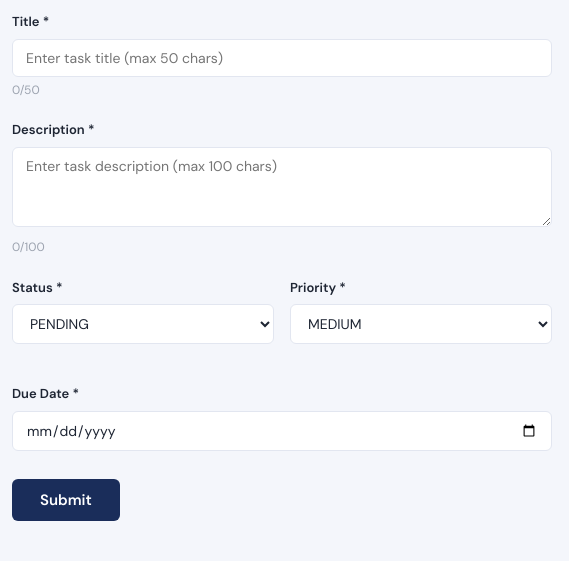
Test: TaskForm — form validation › shows error when due date is in the past
The width and height of the screenshot is (569, 561).
Type "Valid Title" into the field with placeholder "Enter task title (max 50 chars)".
click(282, 58); type("Valid Title")  # box 12,39 -> 552,77
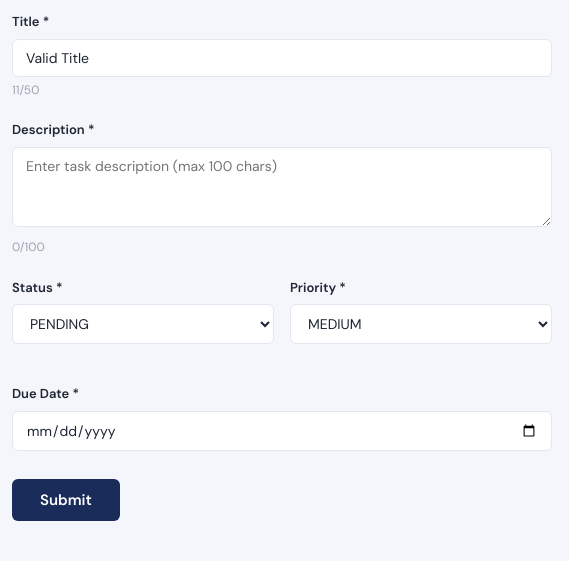
Type "Valid description" into the text box with placeholder "Enter task description (max 100 chars)".
click(282, 187); type("Valid description")  # box 12,147 -> 552,227
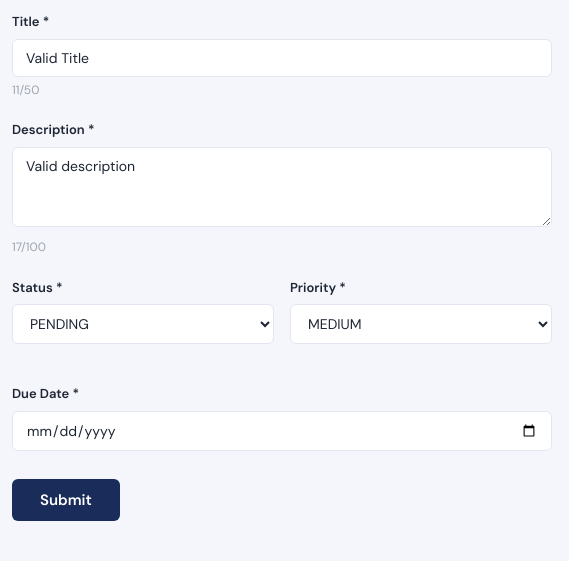
Type "2020-01-01" into the date field.
click(282, 431); type("2020-01-01")  # box 12,411 -> 552,451
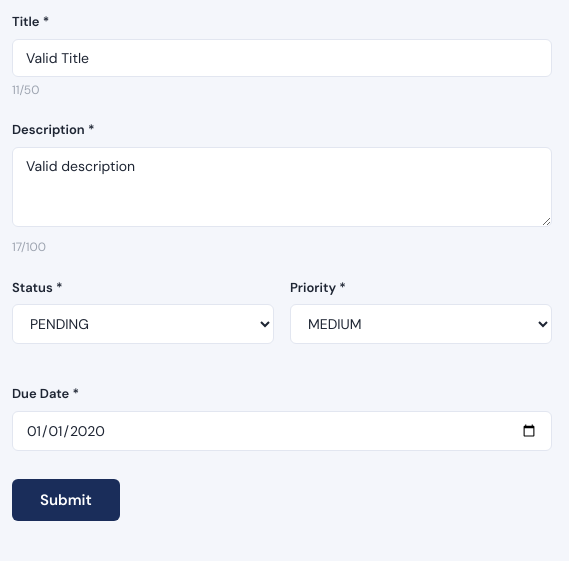
Click the button "Submit".
click(66, 500)  # box 12,479 -> 120,521
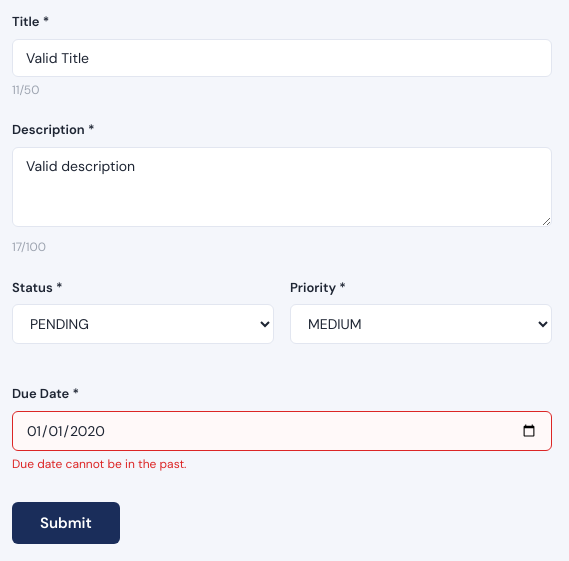
expect the text "Due date cannot be in the past." is shown: met, box 12,456 -> 186,472
